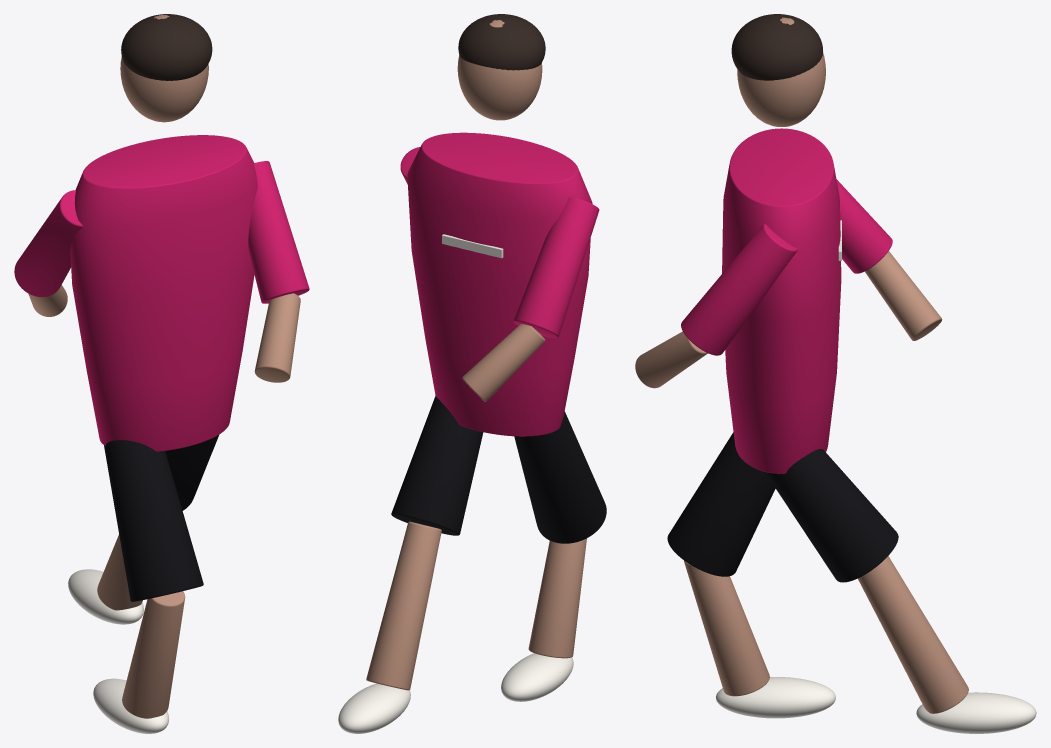
The model's file is athlete-run.glb.
The picture shows the model from 3 angles, left to right: view 1: azimuth 30°, elevation 25°; view 2: azimuth 150°, elevation 25°; view 3: azimuth 270°, elevation 25°; orthographic projection. The views are drawn at different scales.
Parts seen in each view (by area): view 1: GARMENT_TORSO, GARMENT_BIB_LEG_L, BODY_CALF_L, GARMENT_SLEEVE_R, BODY_HAIR, GARMENT_SLEEVE_L, BODY_HEAD, BODY_FOREARM_R, GARMENT_BIB_LEG_R, SHOE_L, SHOE_R, BODY_CALF_R (+1 smaller); view 2: GARMENT_TORSO, GARMENT_BIB_LEG_R, GARMENT_BIB_LEG_L, BODY_CALF_R, GARMENT_SLEEVE_L, BODY_CALF_L, BODY_HAIR, BODY_HEAD, BODY_FOREARM_L, SHOE_R, SHOE_L, GARMENT_MARK; view 3: GARMENT_TORSO, GARMENT_BIB_LEG_R, GARMENT_BIB_LEG_L, BODY_CALF_R, GARMENT_SLEEVE_R, BODY_CALF_L, BODY_HAIR, BODY_HEAD, SHOE_R, SHOE_L, BODY_FOREARM_L, GARMENT_SLEEVE_L (+1 smaller).
Boxes of the visible parts, <box> form: GARMENT_TORSO: <box>70,135,257,451</box>; GARMENT_BIB_LEG_L: <box>104,440,203,601</box>; BODY_CALF_L: <box>122,591,185,718</box>; GARMENT_SLEEVE_R: <box>248,161,309,303</box>; BODY_HAIR: <box>121,14,212,80</box>; GARMENT_SLEEVE_L: <box>14,190,83,297</box>; BODY_HEAD: <box>120,15,208,122</box>; BODY_FOREARM_R: <box>254,293,300,382</box>; GARMENT_BIB_LEG_R: <box>165,435,218,510</box>; SHOE_L: <box>93,678,168,733</box>; SHOE_R: <box>68,569,143,624</box>; BODY_CALF_R: <box>97,534,142,610</box>; GARMENT_TORSO: <box>407,132,592,436</box>; GARMENT_BIB_LEG_R: <box>391,396,483,535</box>; GARMENT_BIB_LEG_L: <box>514,411,606,543</box>; BODY_CALF_R: <box>366,521,441,690</box>; GARMENT_SLEEVE_L: <box>513,196,599,337</box>; BODY_CALF_L: <box>528,538,586,658</box>; BODY_HAIR: <box>458,14,545,70</box>; BODY_HEAD: <box>457,20,542,120</box>; BODY_FOREARM_L: <box>462,324,545,401</box>; SHOE_R: <box>338,683,410,733</box>; SHOE_L: <box>501,653,573,701</box>; GARMENT_MARK: <box>442,234,503,258</box>; GARMENT_TORSO: <box>722,128,841,473</box>; GARMENT_BIB_LEG_R: <box>765,449,898,582</box>; GARMENT_BIB_LEG_L: <box>667,432,775,576</box>; BODY_CALF_R: <box>857,556,968,713</box>; GARMENT_SLEEVE_R: <box>681,224,797,355</box>; BODY_CALF_L: <box>684,560,769,696</box>; BODY_HAIR: <box>731,14,822,80</box>; BODY_HEAD: <box>737,17,825,126</box>; SHOE_R: <box>916,692,1036,733</box>; SHOE_L: <box>715,677,835,718</box>; BODY_FOREARM_L: <box>864,251,942,340</box>; GARMENT_SLEEVE_L: <box>836,179,892,273</box>.
Bounding box in the file's own units: 0.8598 × 2.75 × 1.4.
